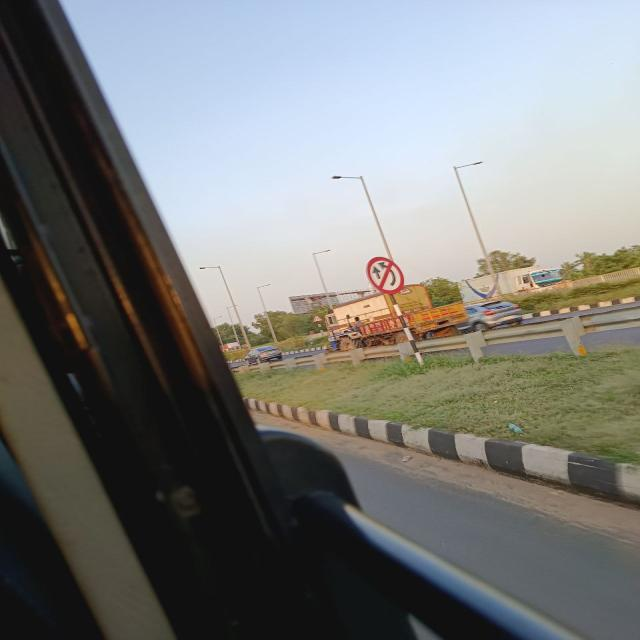No_overtaking: (356, 256, 408, 296)
